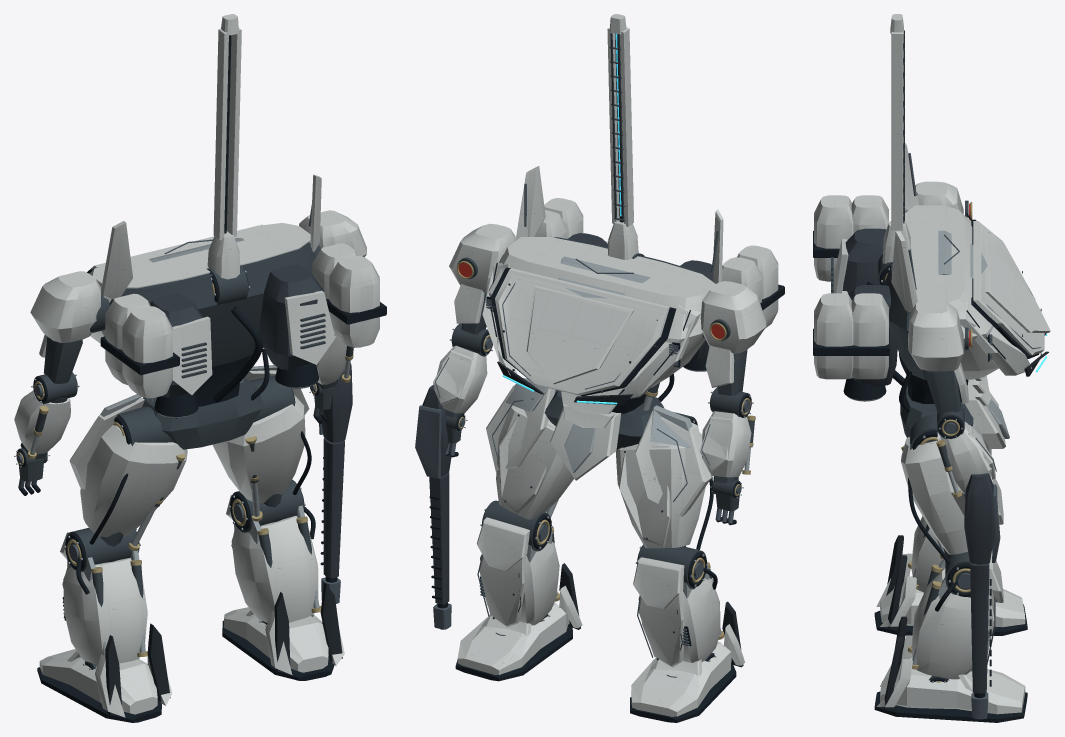
Rendered from chengying-reconstruction.glb.
3 renders of one model, left to right at view 1: azimuth 30°, elevation 25°; view 2: azimuth 150°, elevation 25°; view 3: azimuth 270°, elevation 25°, orthographic. The views are drawn at different scales.
Visible parts, largest first — view 1: chengying-white, chengying-joint, chengying-dark, chengying-armour, chengying-hull, chengying-edge, chengying-gold, chengying-panel; view 2: chengying-white, chengying-joint, chengying-dark, chengying-armour, chengying-panel, chengying-edge, chengying-hull, chengying-gold; view 3: chengying-white, chengying-armour, chengying-dark, chengying-joint, chengying-hull, chengying-panel, chengying-edge, chengying-gold.
Boxes of the visible parts, <box> form: chengying-white: <box>14,14,379,717</box>; chengying-joint: <box>17,242,353,669</box>; chengying-dark: <box>16,35,386,722</box>; chengying-armour: <box>150,264,352,578</box>; chengying-hull: <box>105,583,342,715</box>; chengying-edge: <box>14,238,350,669</box>; chengying-gold: <box>17,283,353,656</box>; chengying-panel: <box>16,204,340,617</box>; chengying-white: <box>433,14,778,716</box>; chengying-joint: <box>445,237,754,662</box>; chengying-dark: <box>429,33,784,722</box>; chengying-armour: <box>422,33,712,604</box>; chengying-panel: <box>415,46,750,677</box>; chengying-edge: <box>450,256,753,661</box>; chengying-hull: <box>497,361,743,667</box>; chengying-gold: <box>457,261,755,639</box>; chengying-white: <box>814,14,1050,714</box>; chengying-armour: <box>842,30,994,693</box>; chengying-dark: <box>813,213,1039,722</box>; chengying-joint: <box>831,200,1041,680</box>; chengying-hull: <box>884,333,1048,710</box>; chengying-panel: <box>903,43,1041,719</box>; chengying-edge: <box>848,230,1009,682</box>; chengying-gold: <box>884,202,972,682</box>.
Bounding box in the file's own units: 3.49 × 6.71 × 2.21.
11 materials, 6 textured.
